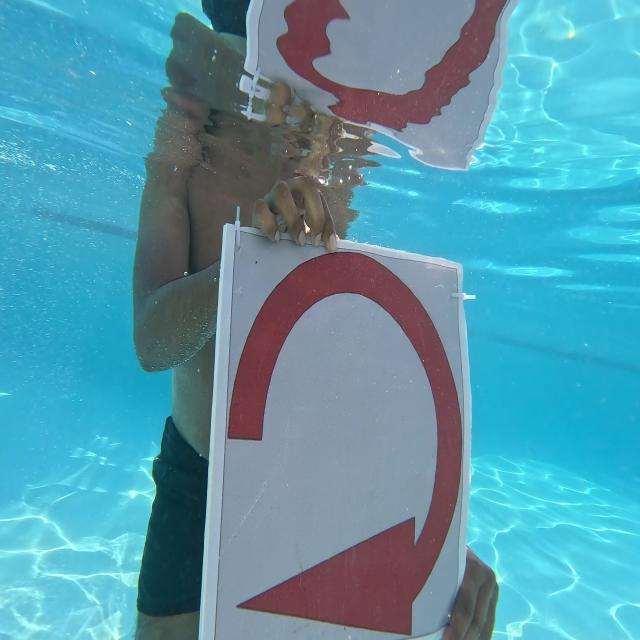red_side: (215, 220, 469, 640)
